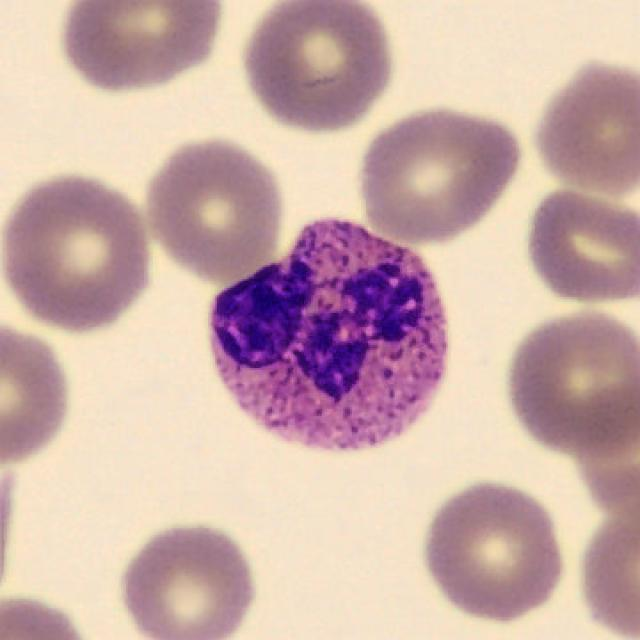Neutrofilo segmentado: (208, 220, 450, 455)
